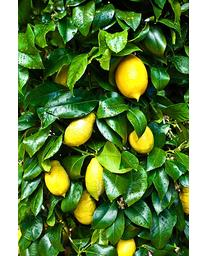lemon: (117, 52, 148, 100), (64, 112, 96, 146), (45, 157, 70, 196), (130, 124, 155, 154)
